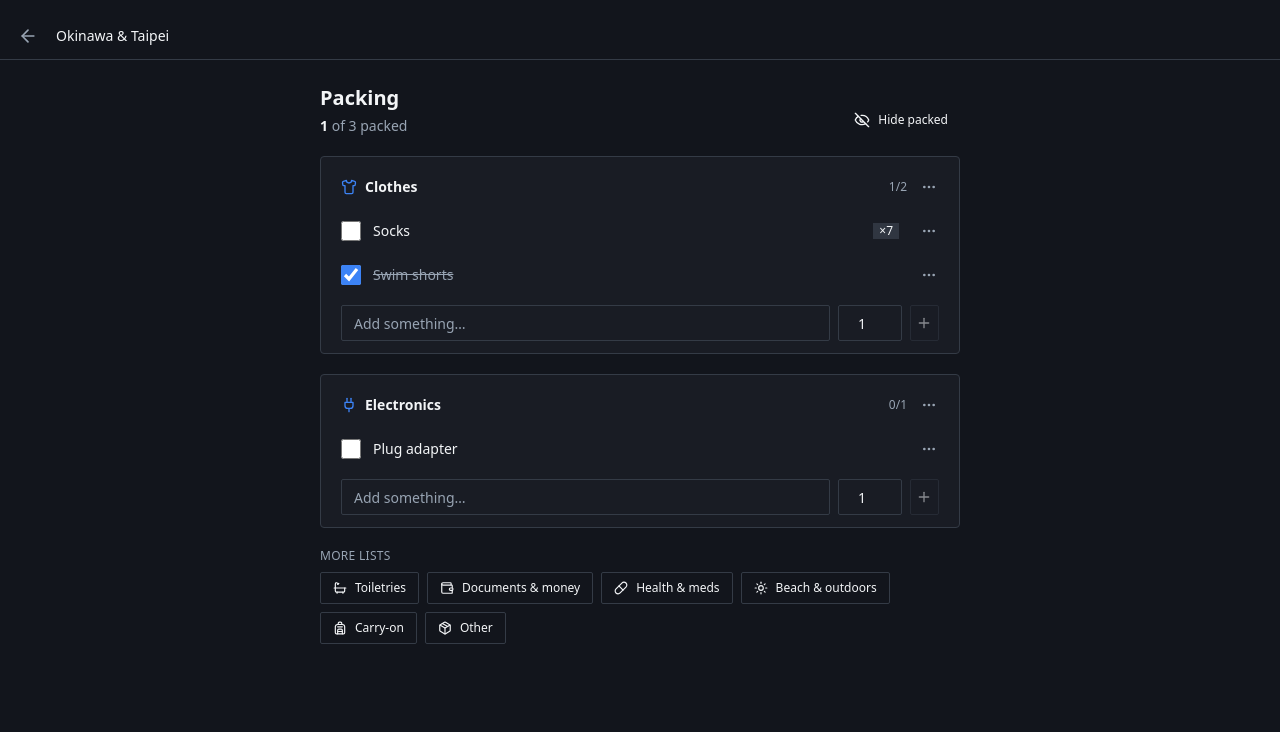
Test case: the Packing page › hides packed things on request
The image size is (1280, 732).
Expected: the checkbox labelled "Swim shorts" is shown, [341, 265, 361, 285]
What coordinates should you click on to do the following:
click the button "Hide packed"
I would click on:
 (901, 120)
Its box is [842, 104, 960, 136].
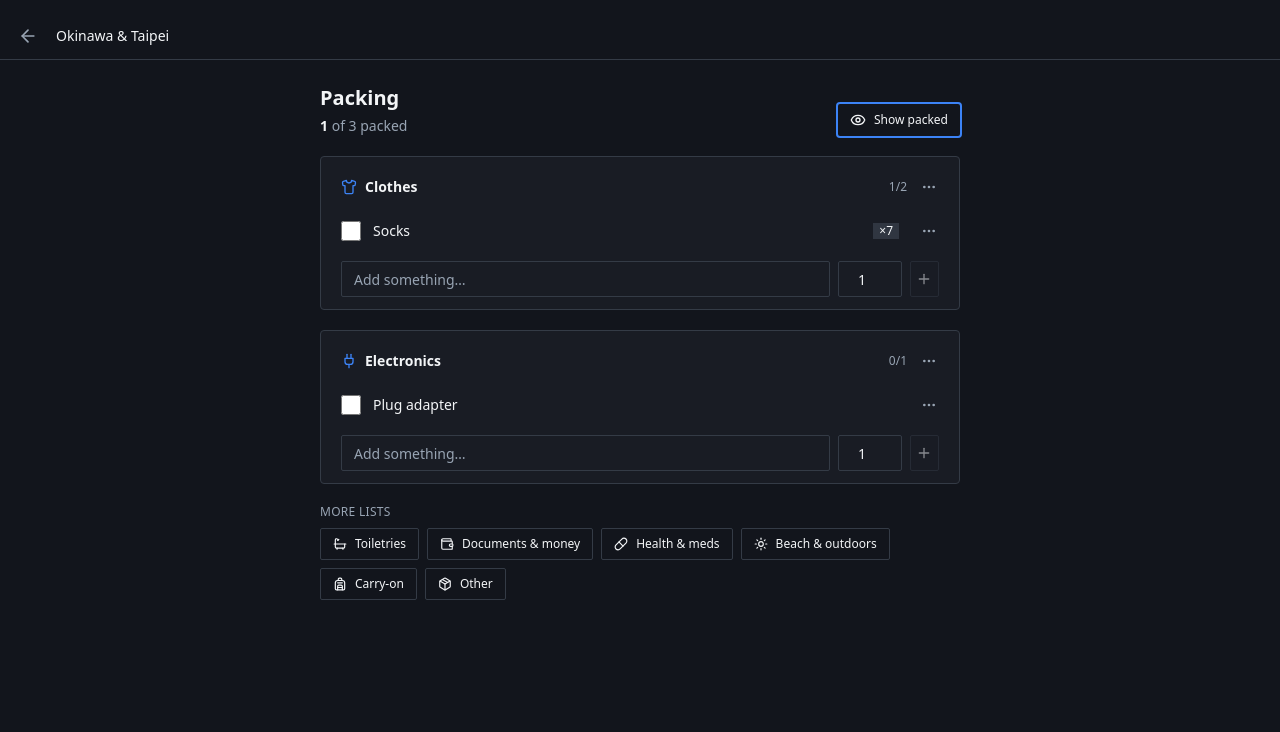
Expected: the checkbox labelled "Socks ×7" is shown, [341, 221, 361, 241]
Expected: the text "Swim shorts" is gone
